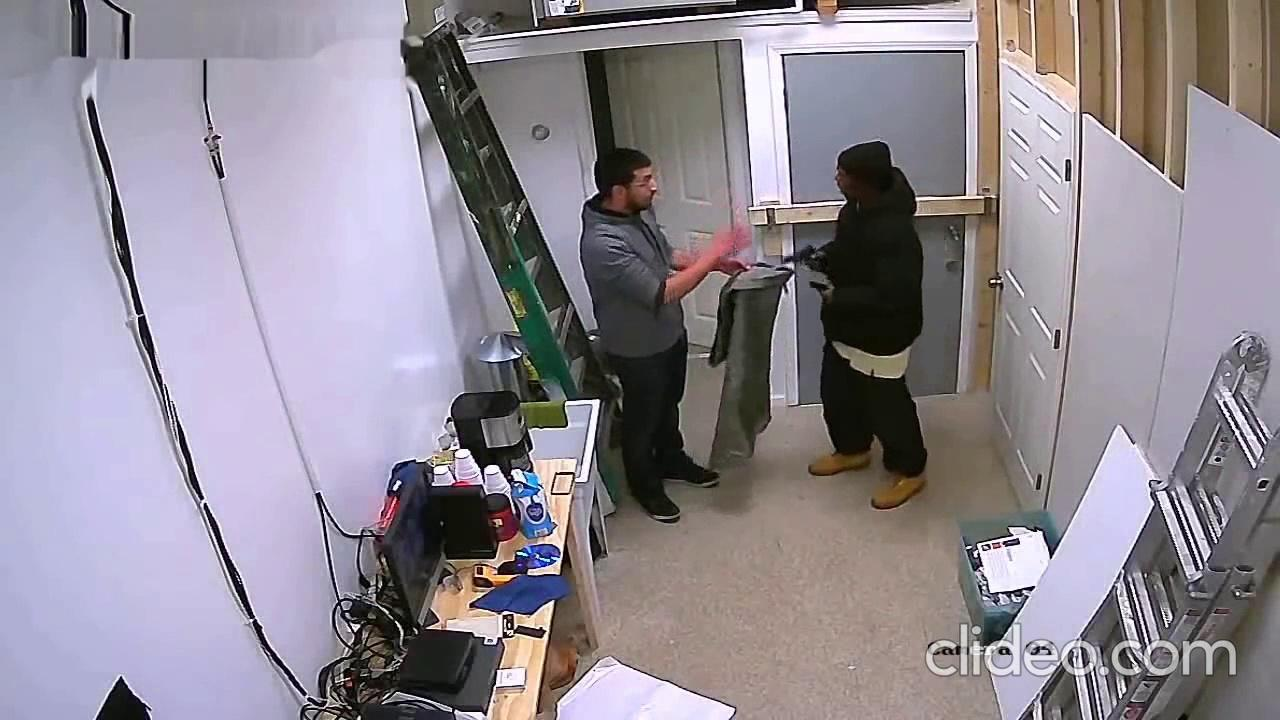person: (579, 147, 753, 525), (806, 139, 931, 511)
pistol: (781, 244, 821, 271)
